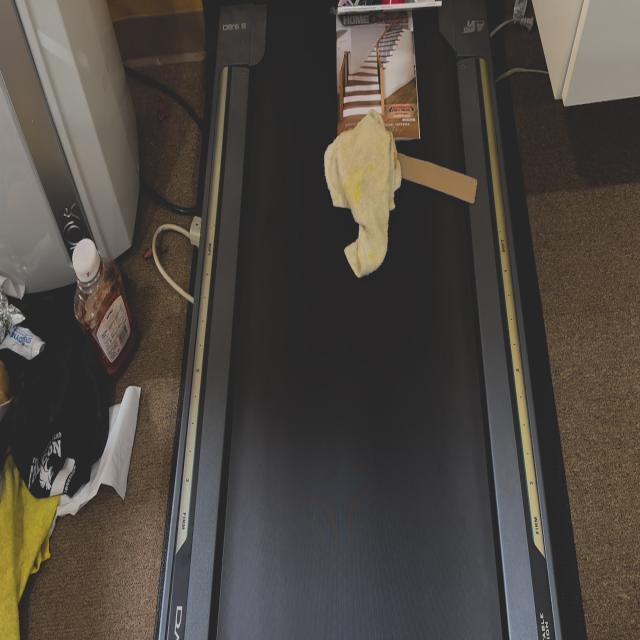Recycle: (335, 10, 421, 141), (390, 143, 480, 209), (334, 0, 444, 12)
Trash: (324, 108, 402, 280)
